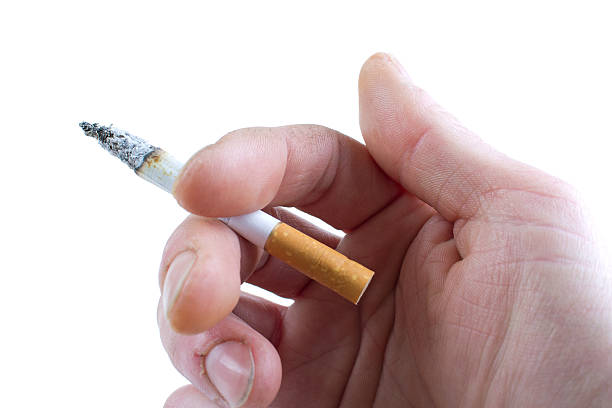cigarette: (80, 118, 378, 309)
